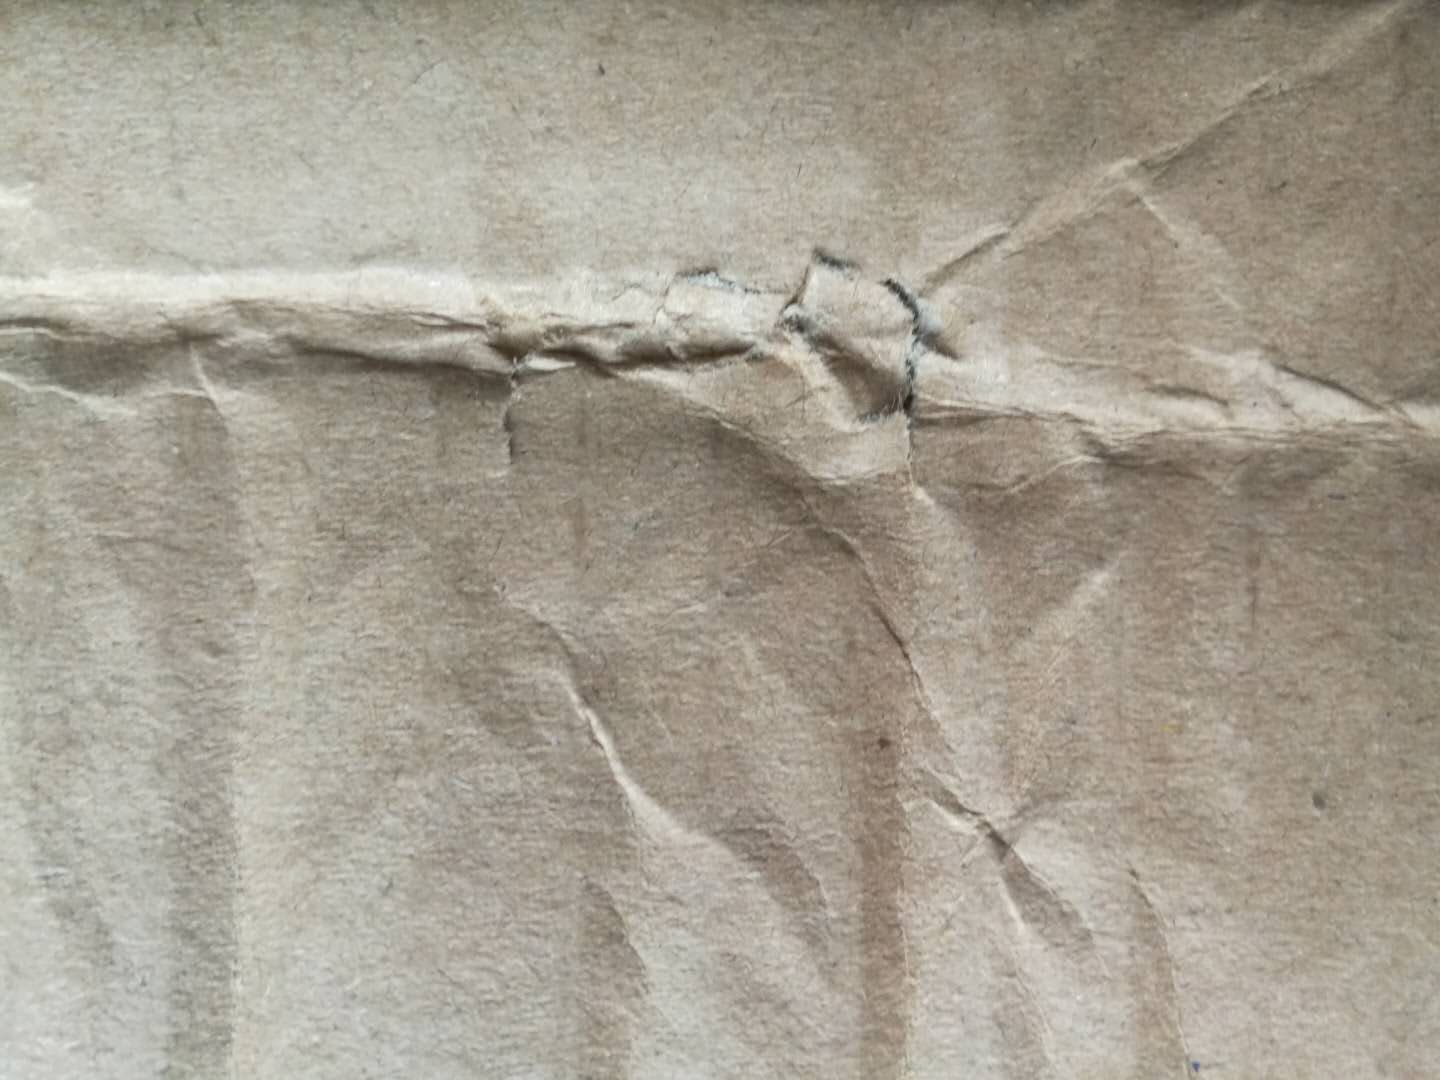defect: (5, 2, 1440, 1075)
